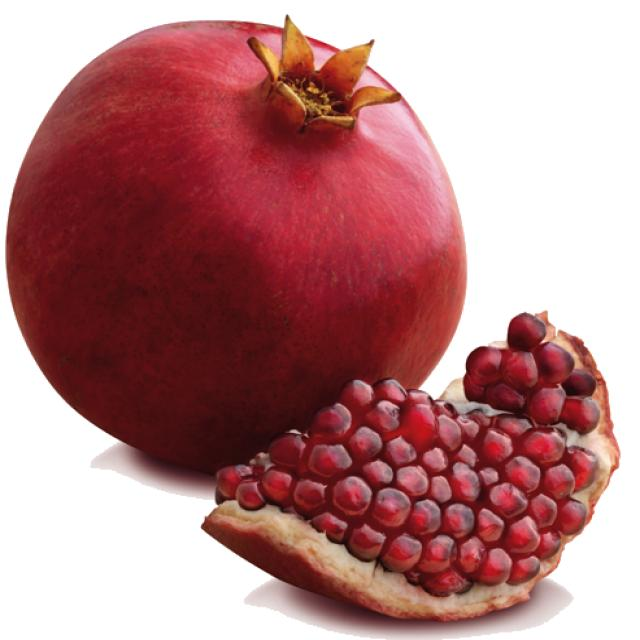apple: (1, 11, 472, 480)
